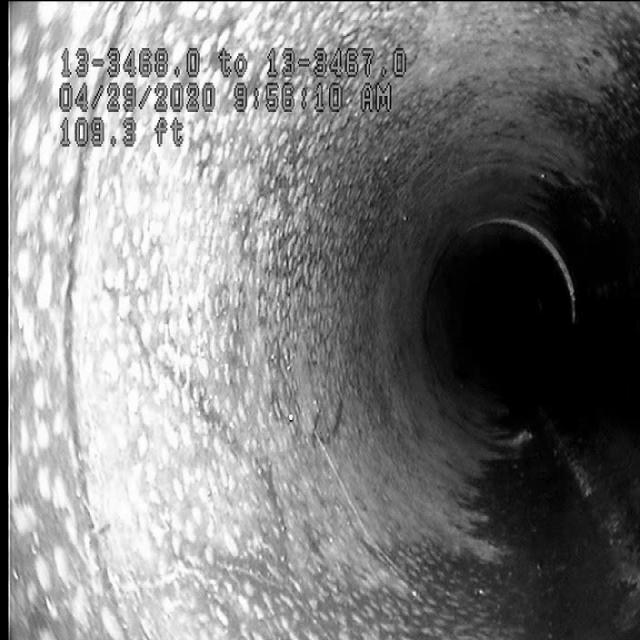Crack: (101, 248, 302, 528)
